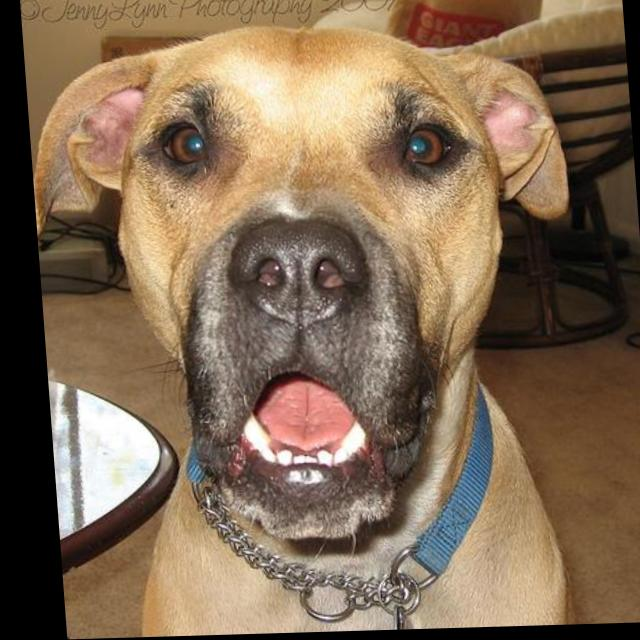bullmastiff: (22, 19, 591, 640)
